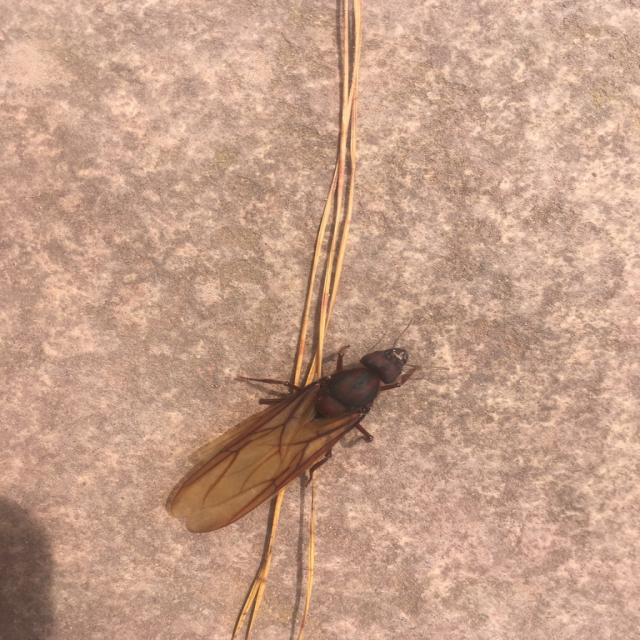Alive-Female-Alate: (170, 316, 450, 534)
